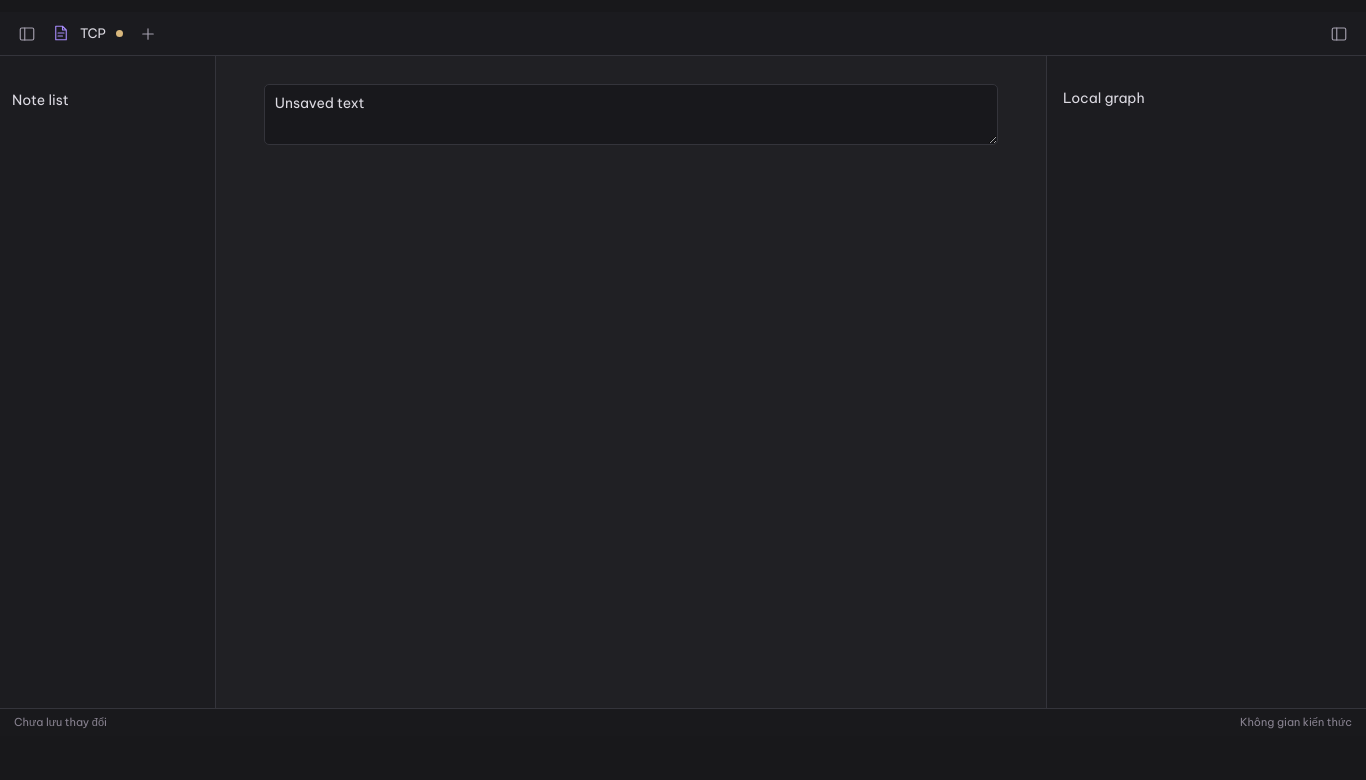
Test: can hide and reopen the navigation and tools without losing editor content
The width and height of the screenshot is (1366, 780).
Click the button named "Ẩn danh sách ghi chú". click: (27, 34)
box: [9,16,45,52]
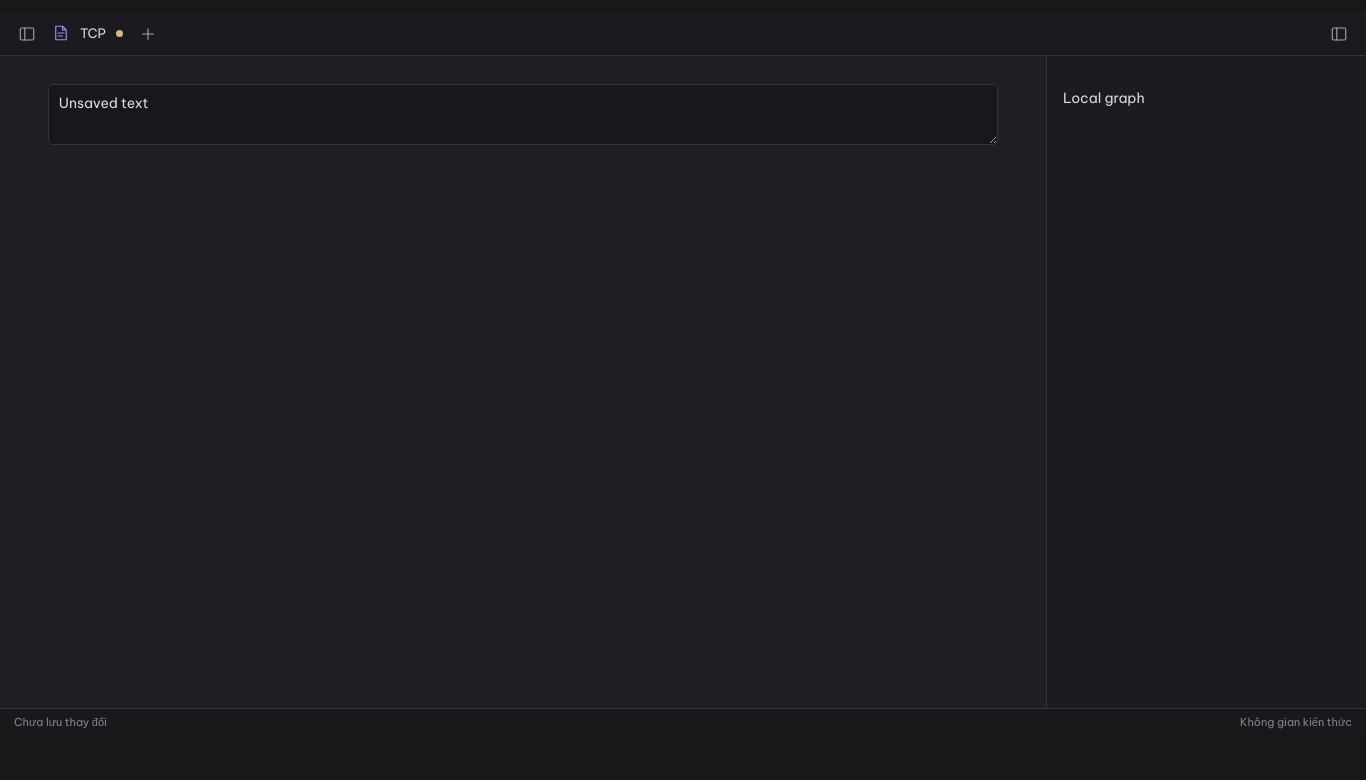
Click the button named "Hiện danh sách ghi chú". click: (27, 34)
box: [9,16,45,52]
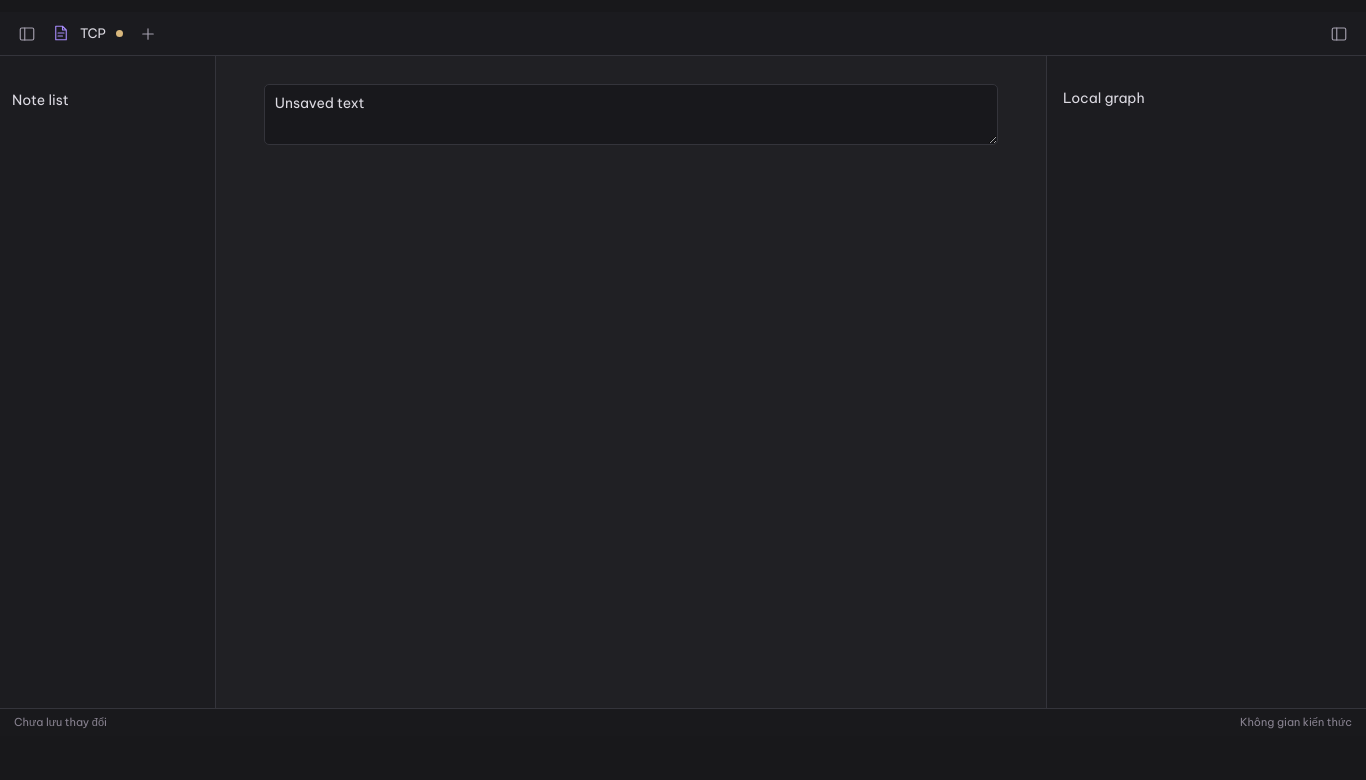
Expected: the text box named "Draft" holds "Unsaved text", [264,84,998,145]
Expected: the element named "Danh sách ghi chú" is shown, [0,56,216,708]
